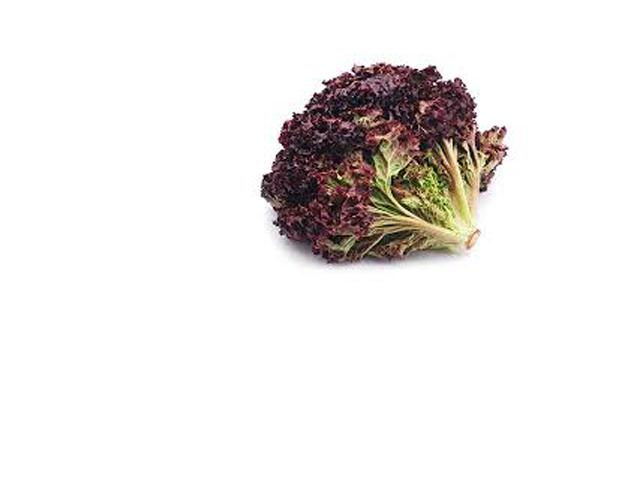lettuce: (249, 54, 493, 276)
